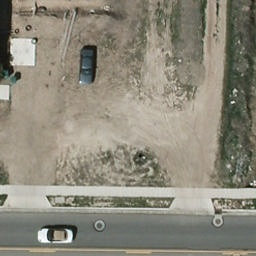car: (77, 49, 96, 85), (37, 228, 75, 243)
